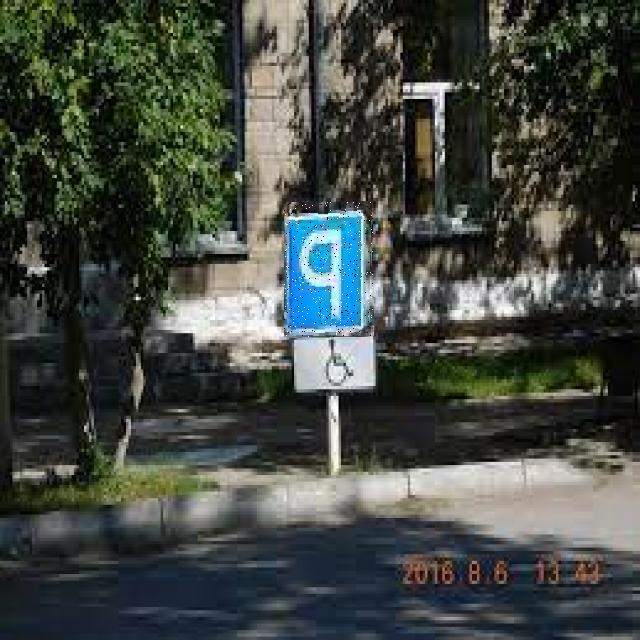parking: (284, 202, 373, 337)
